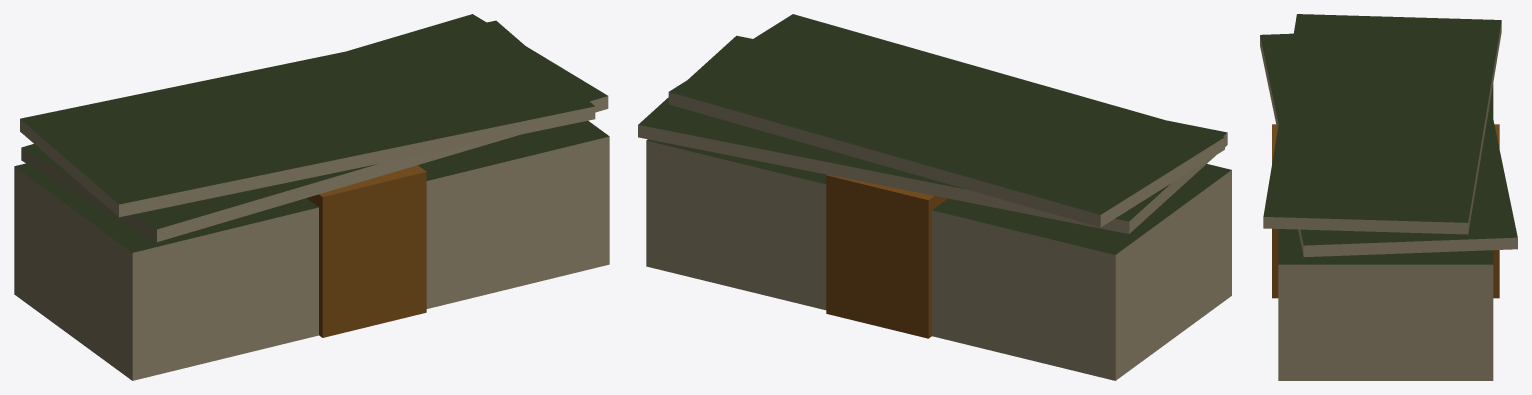
Rendered from SM_Money.fbx.
3 views of the same model, side by side, from view 1: azimuth 30°, elevation 25°; view 2: azimuth 150°, elevation 25°; view 3: azimuth 270°, elevation 25° (orthographic). The views are drawn at different scales.
Visible parts, largest first — view 1: SM_Money; view 2: SM_Money; view 3: SM_Money.
Boxes of the visible parts, x1,y1,x2,y2 form: SM_Money: (14, 14, 609, 380); SM_Money: (638, 14, 1231, 380); SM_Money: (1260, 14, 1517, 380).
Bounding box in the file's own units: 16.12 × 5.3 × 8.03.
